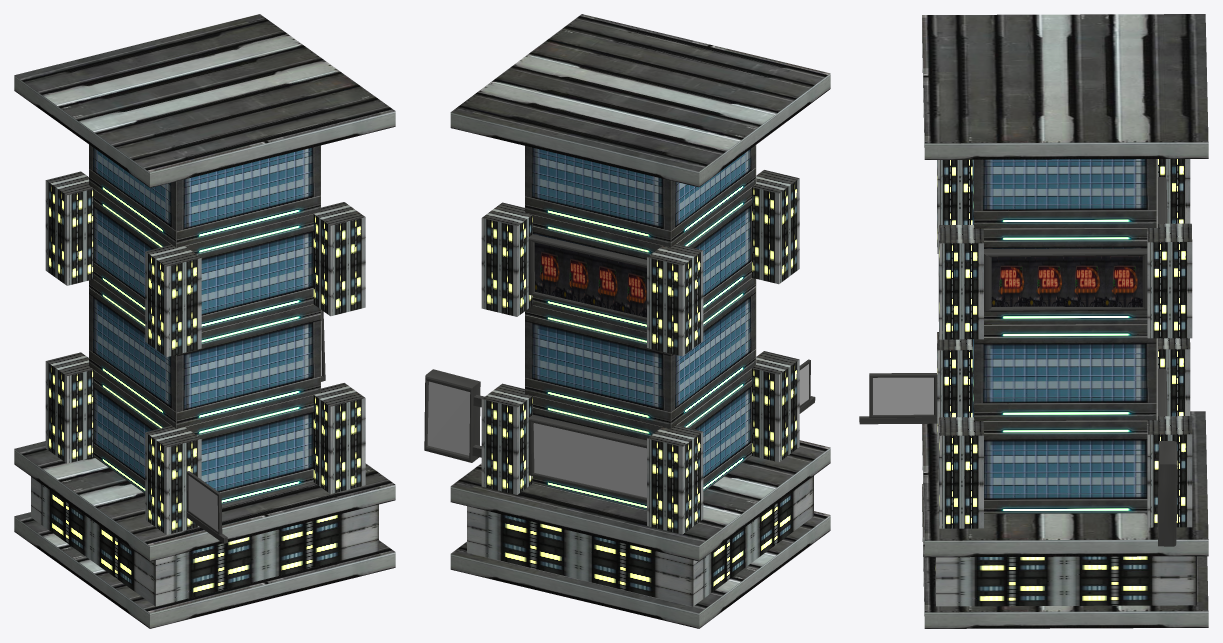
The model's file is BLD1310003.fbx.
The picture shows the model from 3 angles, left to right: view 1: azimuth 30°, elevation 25°; view 2: azimuth 150°, elevation 25°; view 3: azimuth 270°, elevation 25°; orthographic projection. The views are drawn at different scales.
Visible parts, largest first — view 1: smBLD1310003; view 2: smBLD1310003; view 3: smBLD1310003.
Boxes of the visible parts, left/top/right/bottom form: smBLD1310003: left=14, top=14, right=395, bottom=628; smBLD1310003: left=424, top=14, right=830, bottom=628; smBLD1310003: left=859, top=14, right=1208, bottom=628.
Size of the model in its own units: 1079 by 1630 by 1062.
